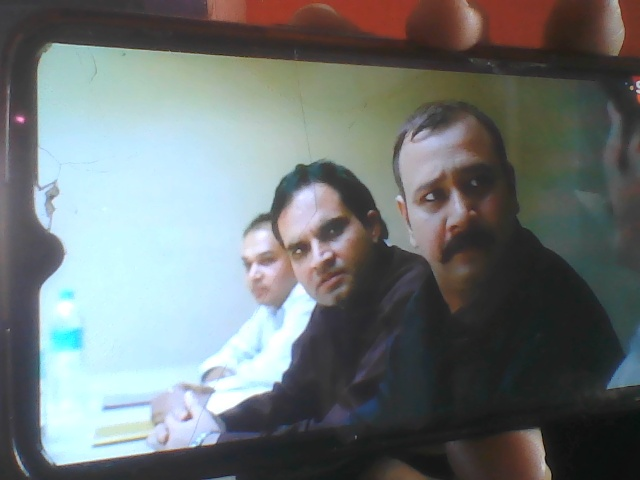fake: (391, 94, 525, 284), (262, 153, 383, 324)
